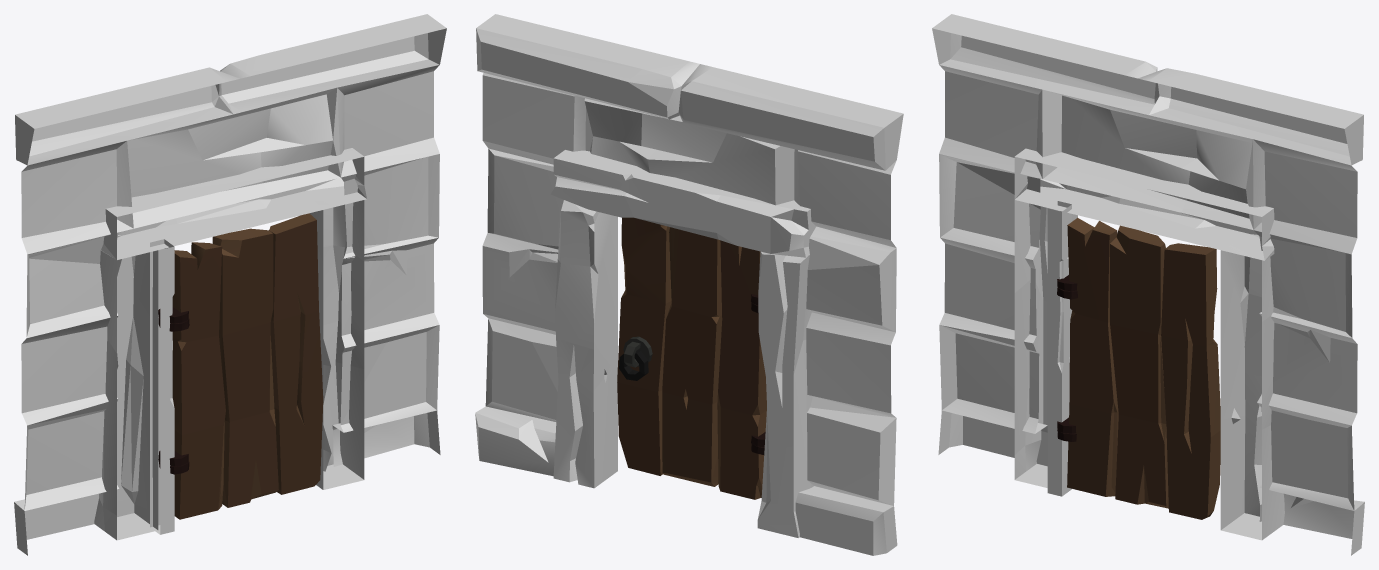
The model's file is NGF_Env_Wooden_doorway_on_the_foundation_03.fbx.
The picture shows the model from 3 angles, left to right: view 1: azimuth 30°, elevation 25°; view 2: azimuth 150°, elevation 25°; view 3: azimuth 330°, elevation 25°; orthographic projection.
Parts seen in each view (by area): view 1: NGF_Env_Wooden_doorway_on_the_foundation_03, NGF_Env_Door_06, NGF_Env_Door_attachment_03; view 2: NGF_Env_Wooden_doorway_on_the_foundation_03, NGF_Env_Door_06, NGF_Env_Handle_attachment_06, NGF_Env_Handle_06; view 3: NGF_Env_Wooden_doorway_on_the_foundation_03, NGF_Env_Door_06, NGF_Env_Door_attachment_03.
Boxes of the visible parts, <box> form: NGF_Env_Wooden_doorway_on_the_foundation_03: <box>14,14,446,555</box>; NGF_Env_Door_06: <box>172,213,323,519</box>; NGF_Env_Door_attachment_03: <box>150,239,174,534</box>; NGF_Env_Wooden_doorway_on_the_foundation_03: <box>475,14,903,555</box>; NGF_Env_Door_06: <box>617,217,766,499</box>; NGF_Env_Handle_attachment_06: <box>623,336,652,367</box>; NGF_Env_Handle_06: <box>619,350,648,380</box>; NGF_Env_Wooden_doorway_on_the_foundation_03: <box>932,14,1364,555</box>; NGF_Env_Door_06: <box>1067,217,1220,519</box>; NGF_Env_Door_attachment_03: <box>1047,201,1071,496</box>.
Bounding box in the file's own units: 4 × 4 × 0.5751.
Materials: 1 (1 with a texture image).
